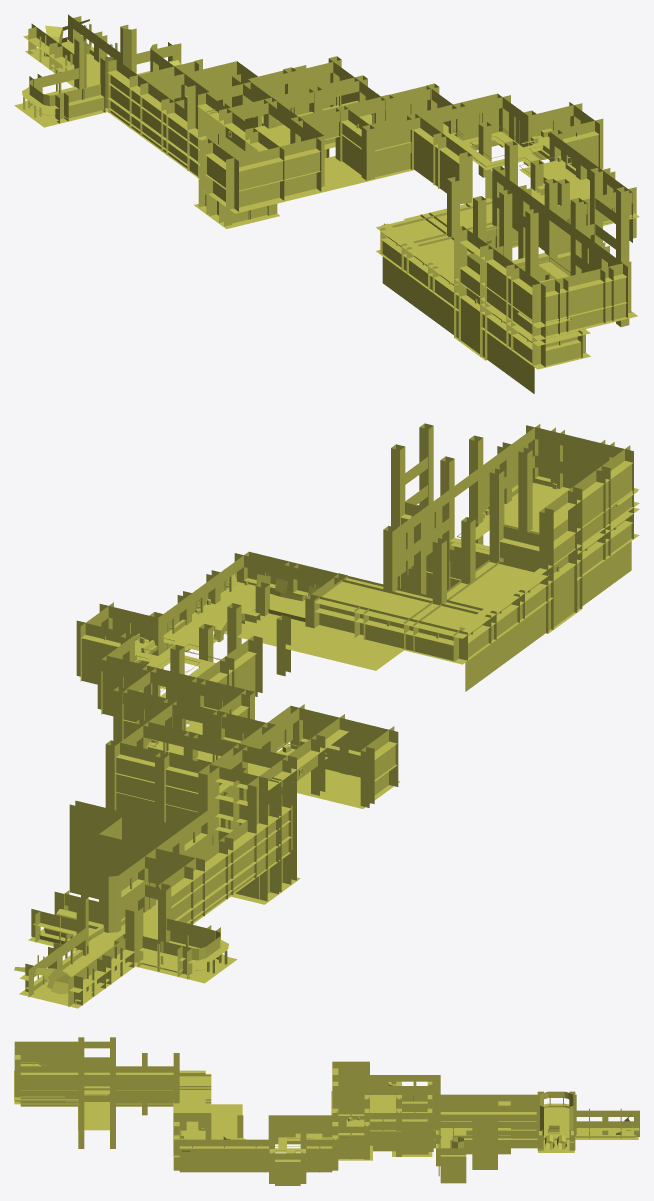
3 renders of one model, top to bottom at view 1: azimuth 30°, elevation 25°; view 2: azimuth 150°, elevation 25°; view 3: azimuth 270°, elevation 25°, orthographic. The views are drawn at different scales.
Visible parts, largest first — view 1: col_00; view 2: col_00; view 3: col_00.
Part boxes in pixels (box(x1,y1,x2,y2)): col_00: box(14, 14, 639, 393); col_00: box(14, 423, 639, 1008); col_00: box(14, 1037, 639, 1185).
Bounding box in the file's own units: 10896 × 5849 × 28343.
